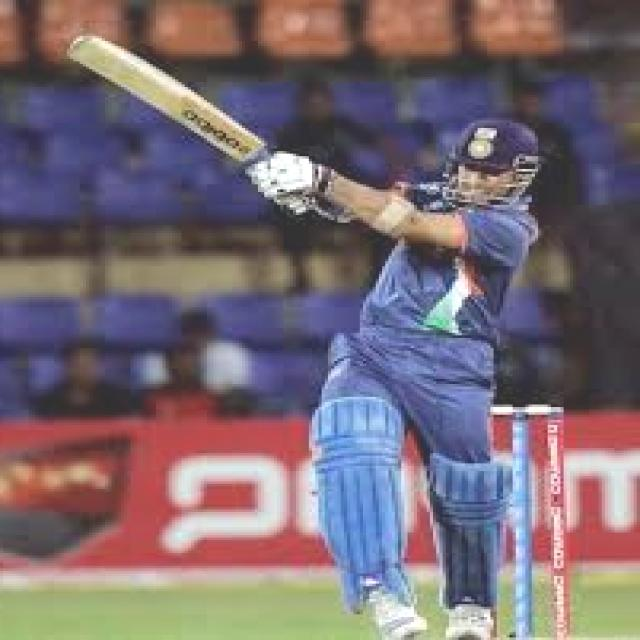toe: (55, 31, 116, 72)
